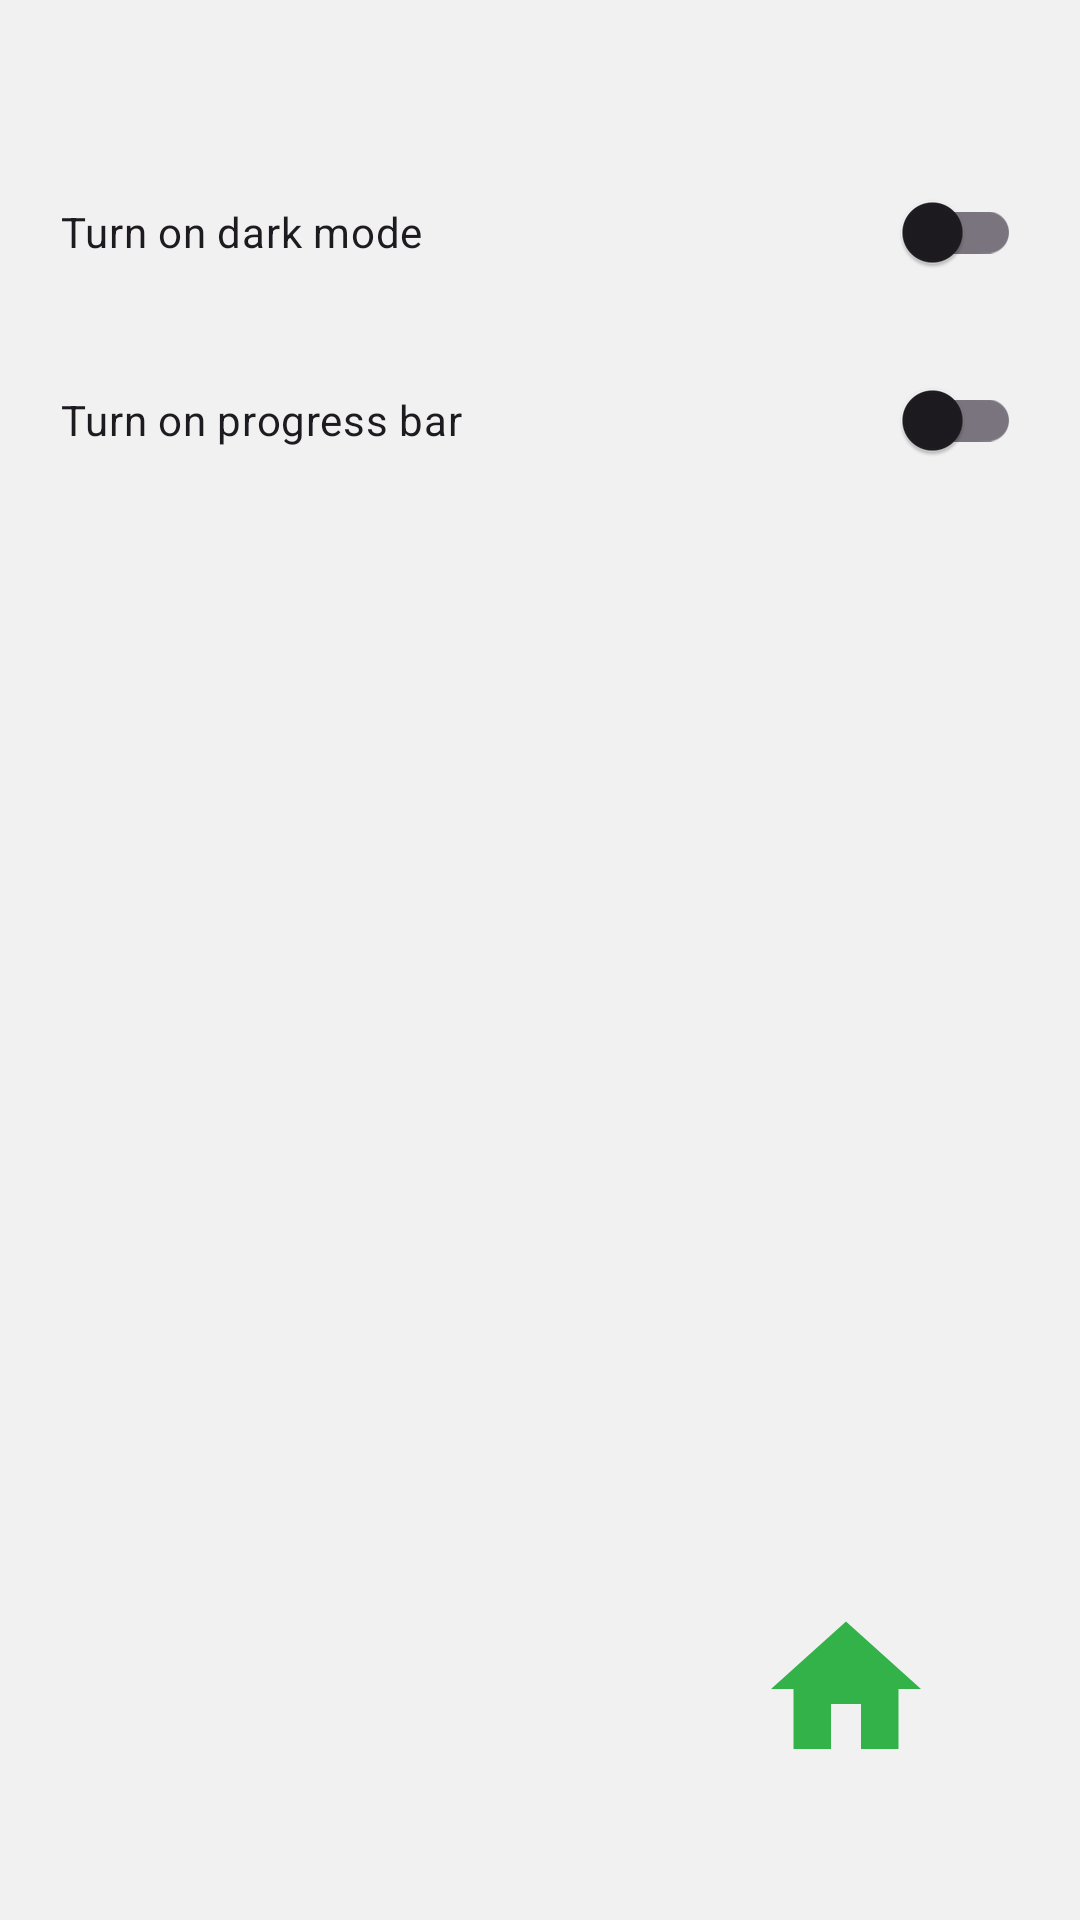

Point at icon controls on the screen. Image size 1080 × 1920, points as point (x, y).
Home button icon: point (846, 1685)
